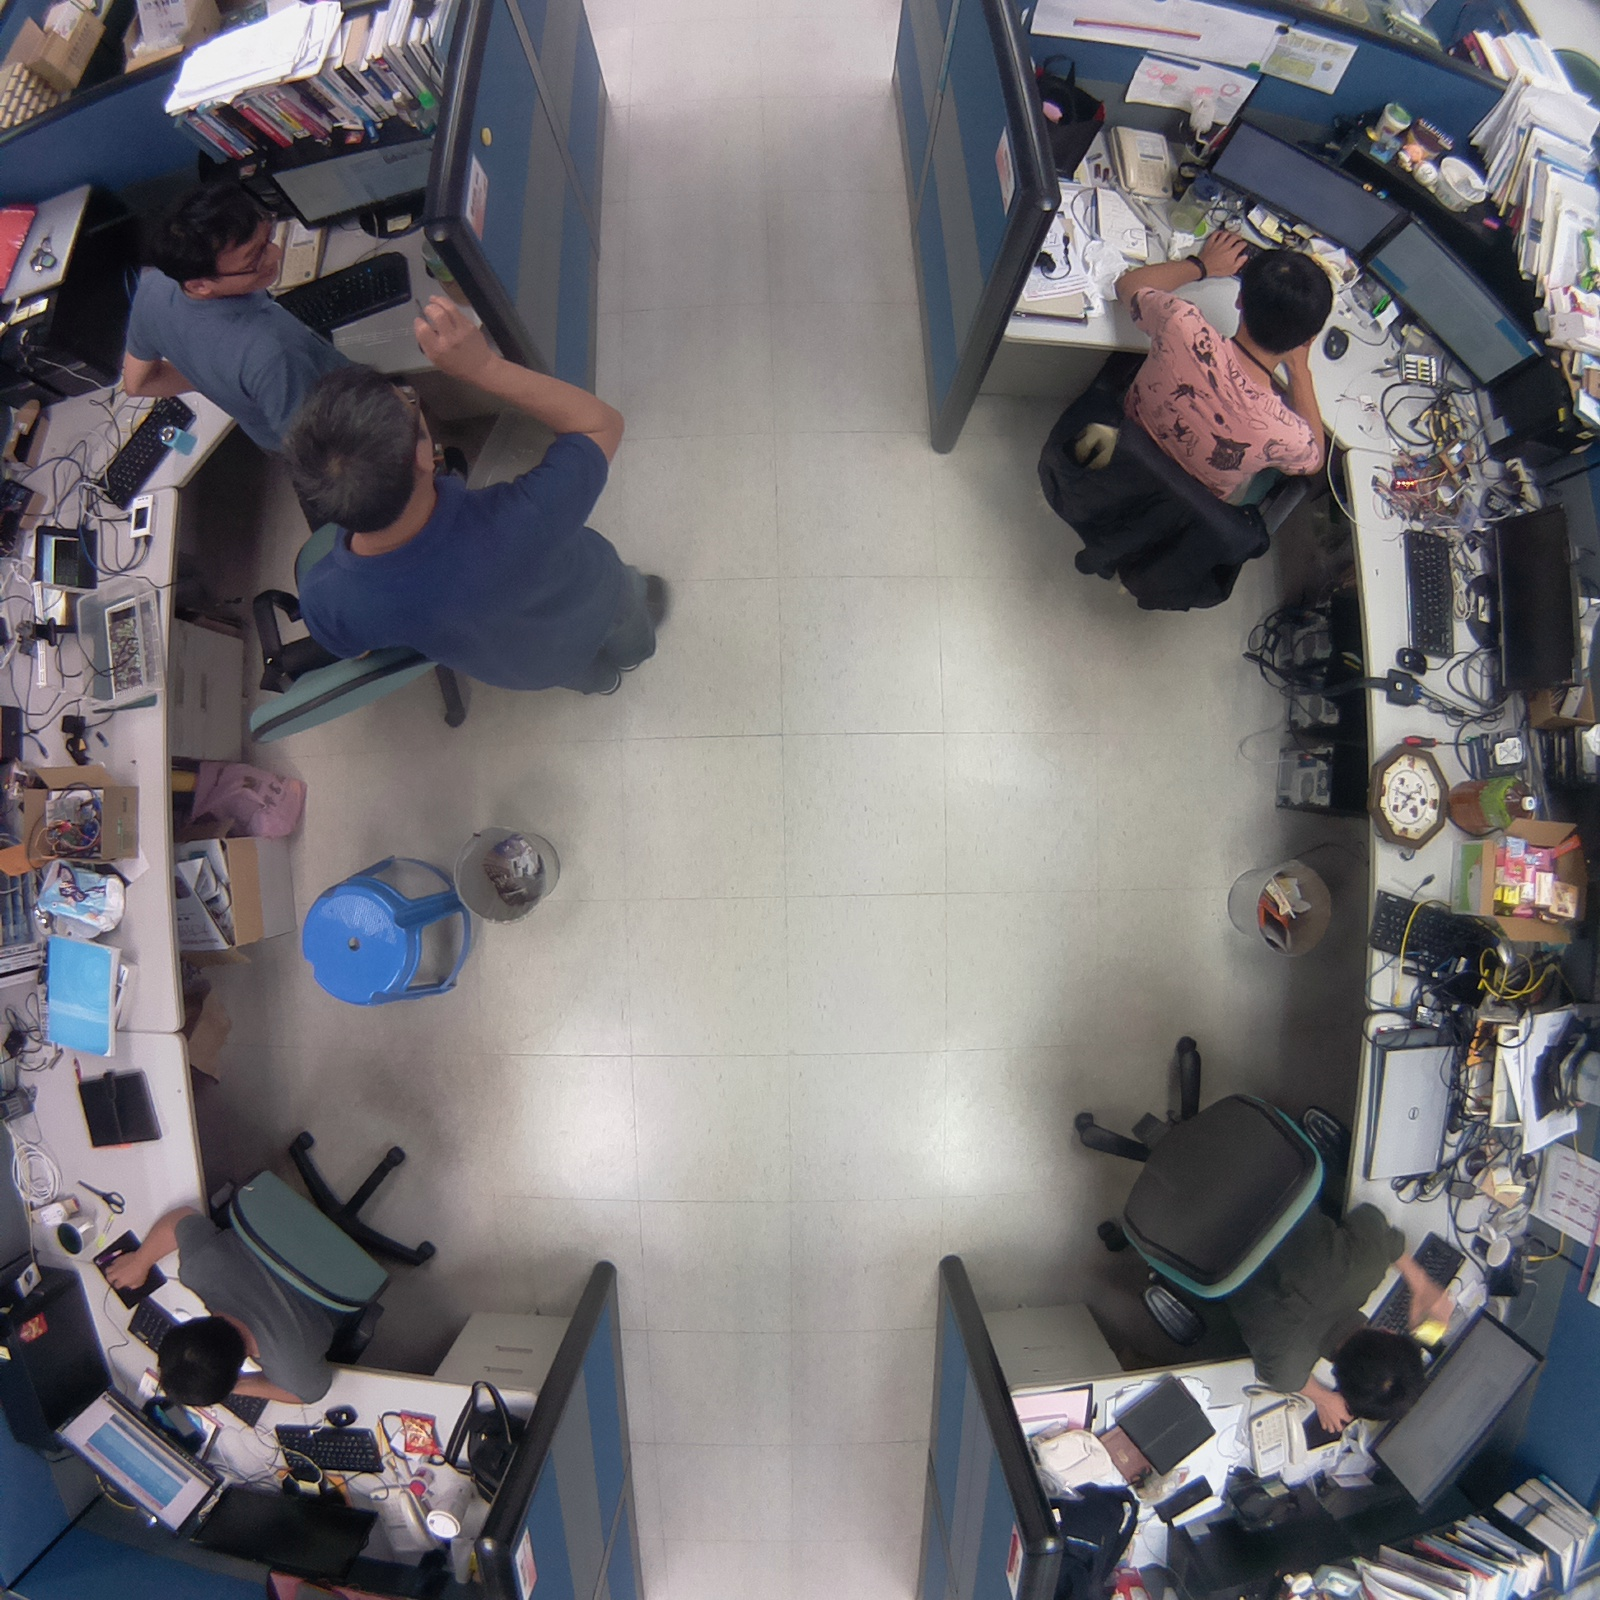head: (282, 353, 443, 533), (125, 165, 294, 294), (1227, 243, 1341, 359), (148, 1308, 252, 1414), (1331, 1322, 1431, 1429)
sitting: (1053, 1014, 1453, 1443), (1024, 220, 1335, 632), (104, 1114, 453, 1426), (89, 174, 341, 449)
standing: (269, 294, 683, 721)
